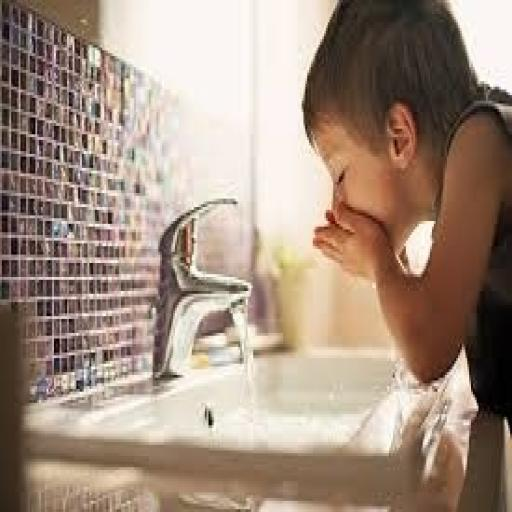drinking: (151, 193, 253, 381)
